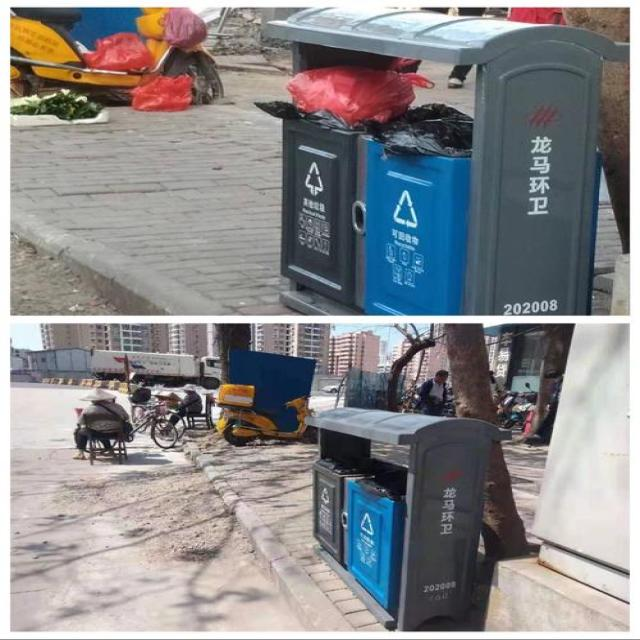garbage: (10, 6, 209, 119)
garbage_bin: (302, 407, 512, 629)
overflow: (253, 8, 628, 312)
